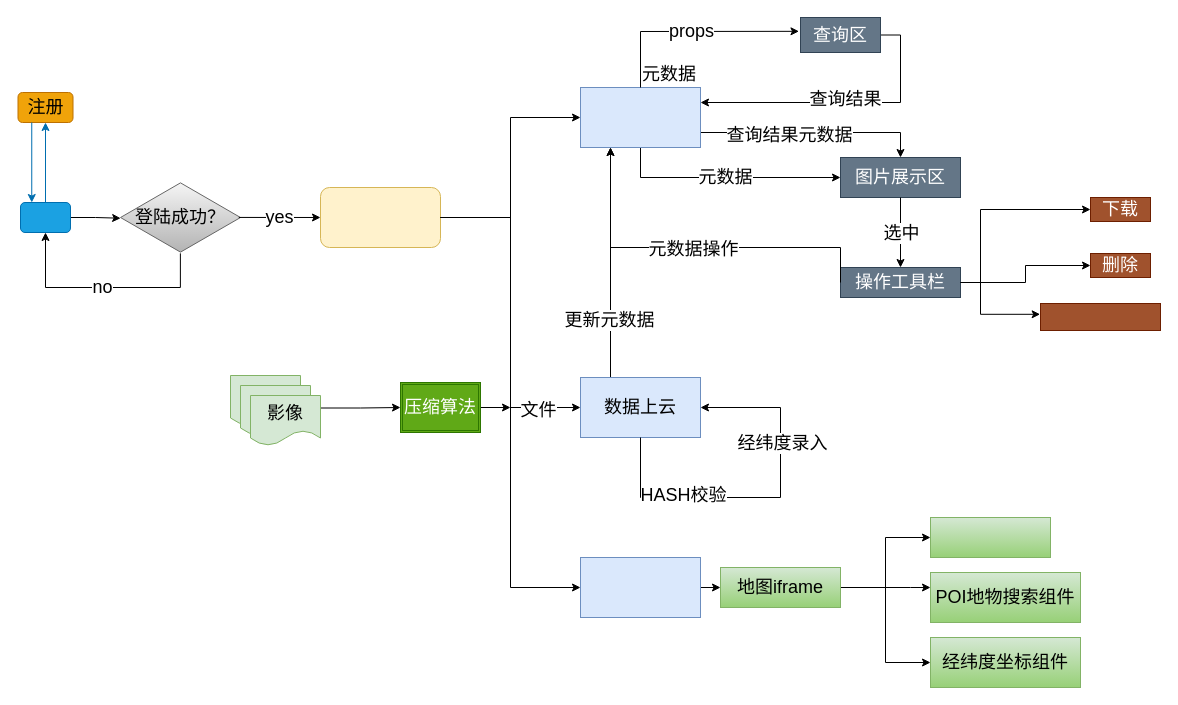
This 1178x705 diagram has some shape labels left out. The shapes that lost their labels are listed below. From the top down, each one's centre as x and y in pixels, then its label:
At point (640, 117): "文件预览".
At point (45, 217): "登录".
At point (380, 217): "客户端首屏".
At point (1100, 316): "变更历史文件".
At point (990, 537): "标绘组件".
At point (640, 587): "地图总览".
